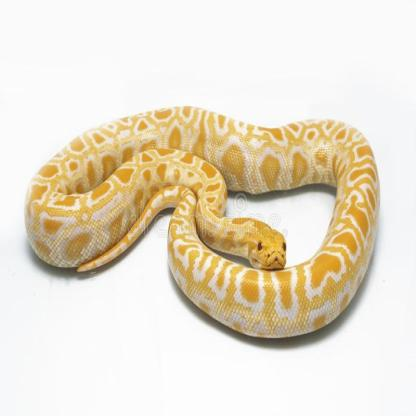Snake: (25, 101, 378, 344)
